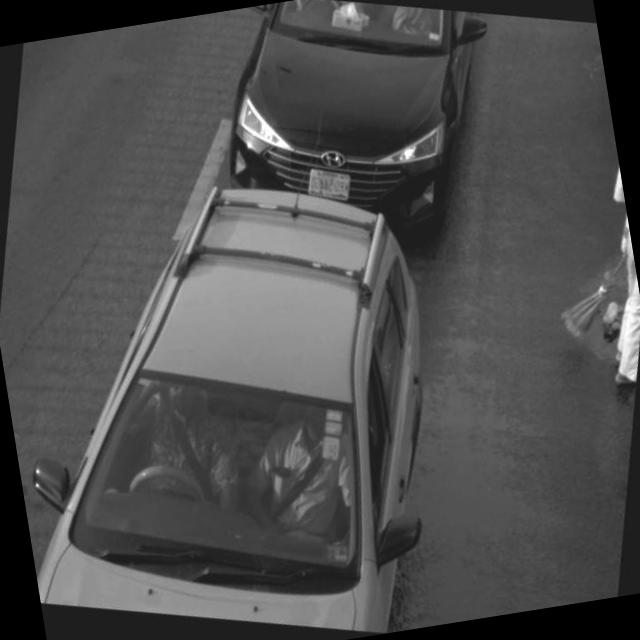person_with_seatbelt: (224, 398, 375, 571)
